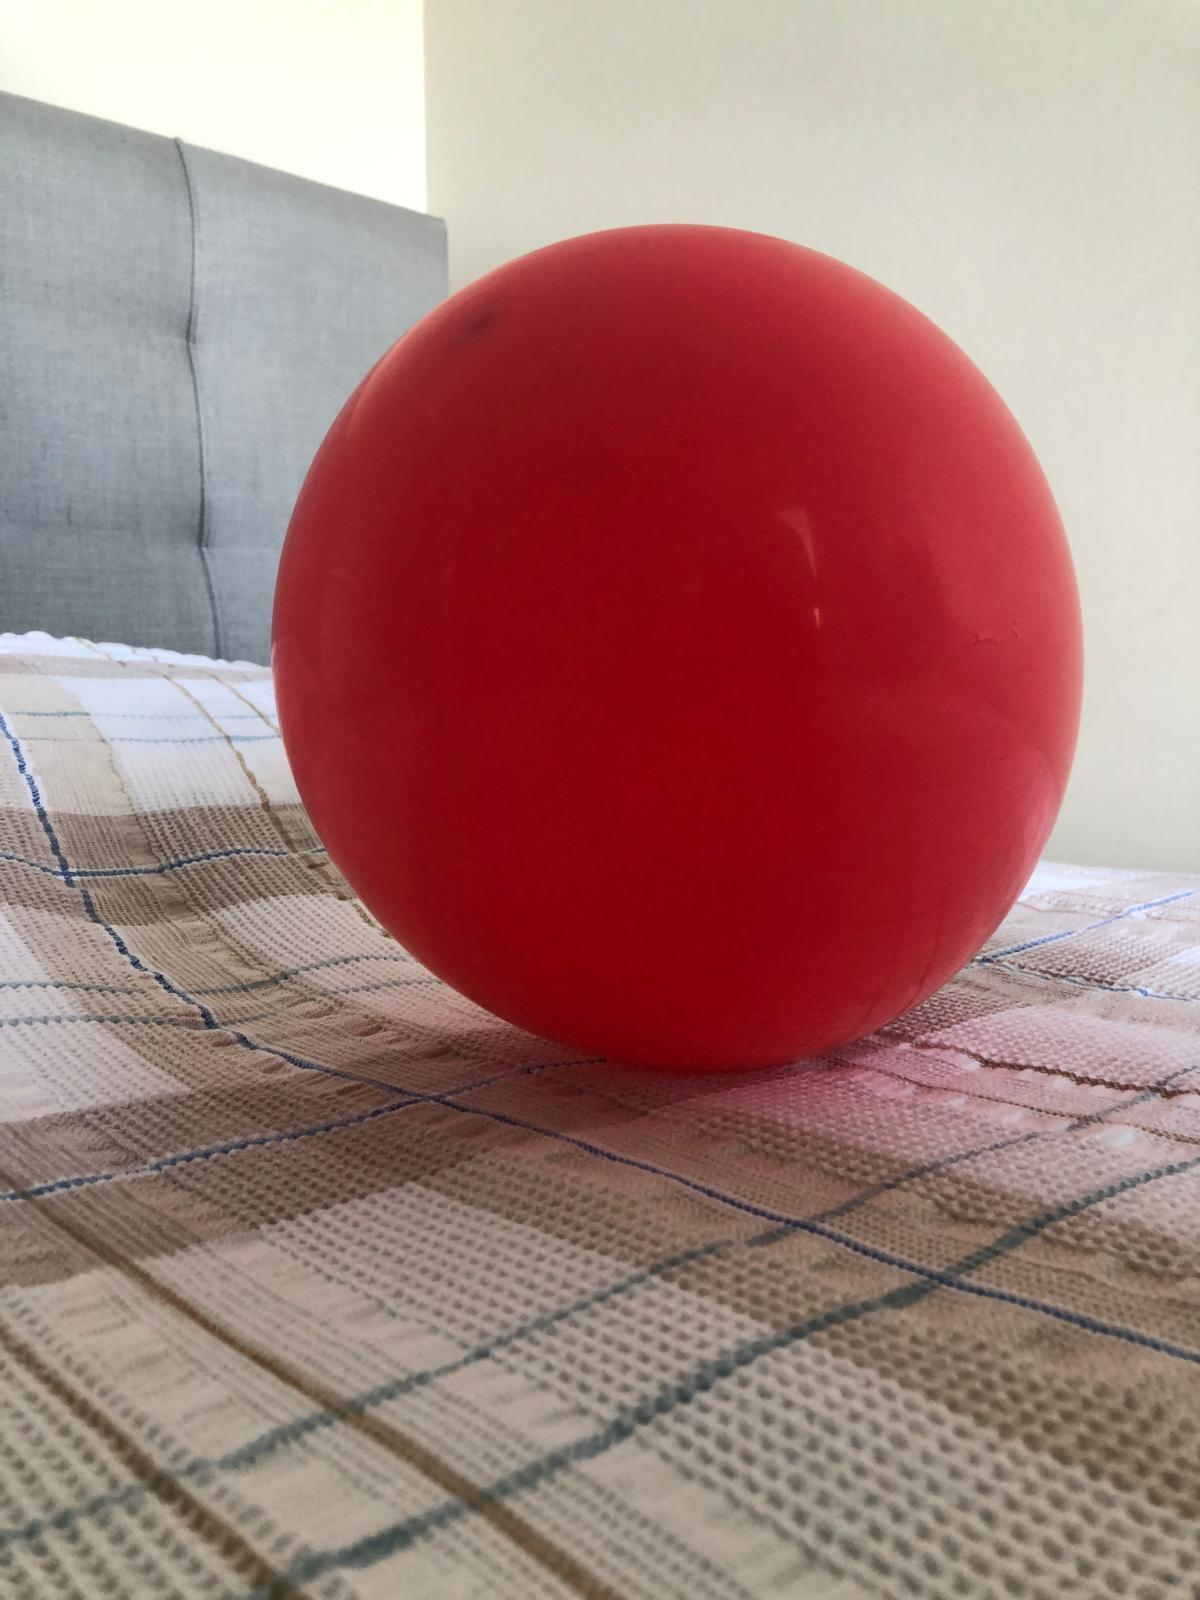red: (261, 214, 1087, 1086)
